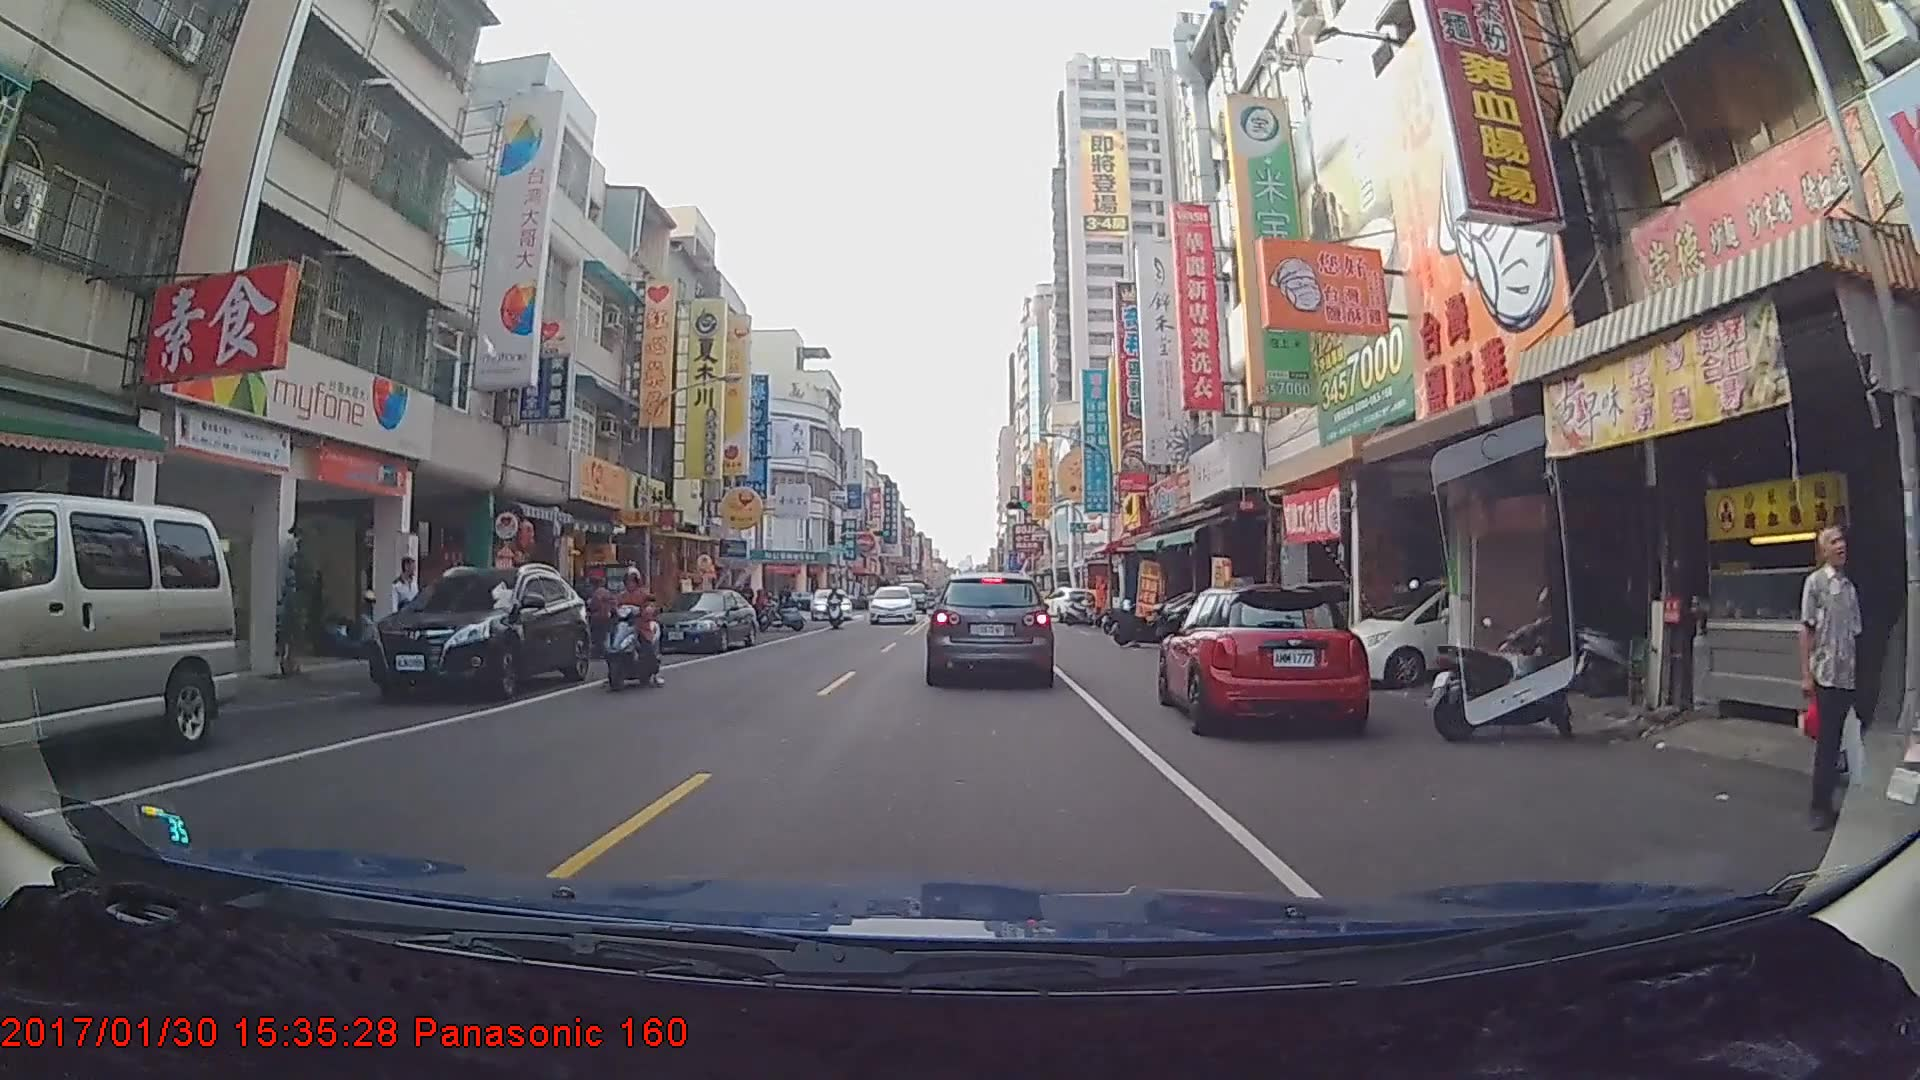pedestrian: (1801, 524, 1868, 828), (386, 555, 425, 685)
rider: (600, 566, 664, 692), (824, 579, 851, 629)
vehicle: (0, 489, 243, 758), (1158, 581, 1371, 733), (365, 562, 589, 700), (926, 569, 1053, 684), (641, 585, 755, 651), (865, 582, 915, 623), (1036, 581, 1091, 618), (809, 587, 850, 617)
